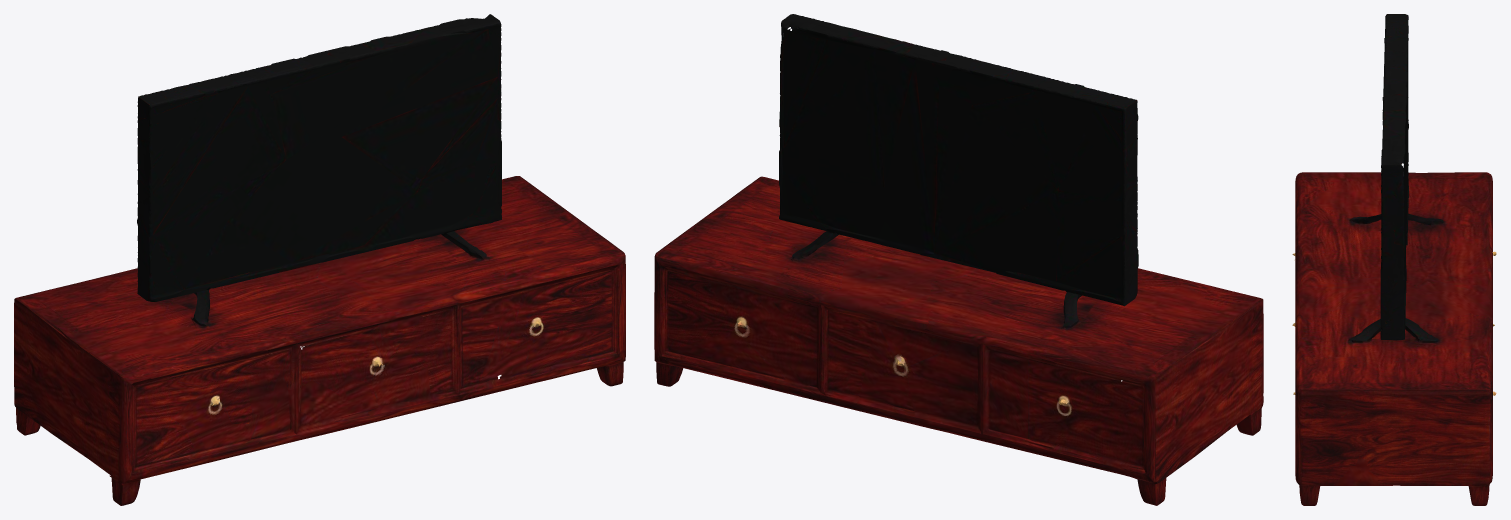
Rendered from w5tvconsole.glb.
3 views of the same model, side by side, from view 1: azimuth 30°, elevation 25°; view 2: azimuth 150°, elevation 25°; view 3: azimuth 270°, elevation 25° (orthographic). The views are drawn at different scales.
Visible parts, largest first — view 1: output_unwrapped; view 2: output_unwrapped; view 3: output_unwrapped.
Boxes of the visible parts, x1,y1,x2,y2 form: output_unwrapped: [14, 14, 625, 505]; output_unwrapped: [654, 14, 1263, 505]; output_unwrapped: [1292, 14, 1496, 505].
Size of the model in its own units: 1.8 by 1.19 by 0.7107.
Materials: 1 (1 with a texture image).
